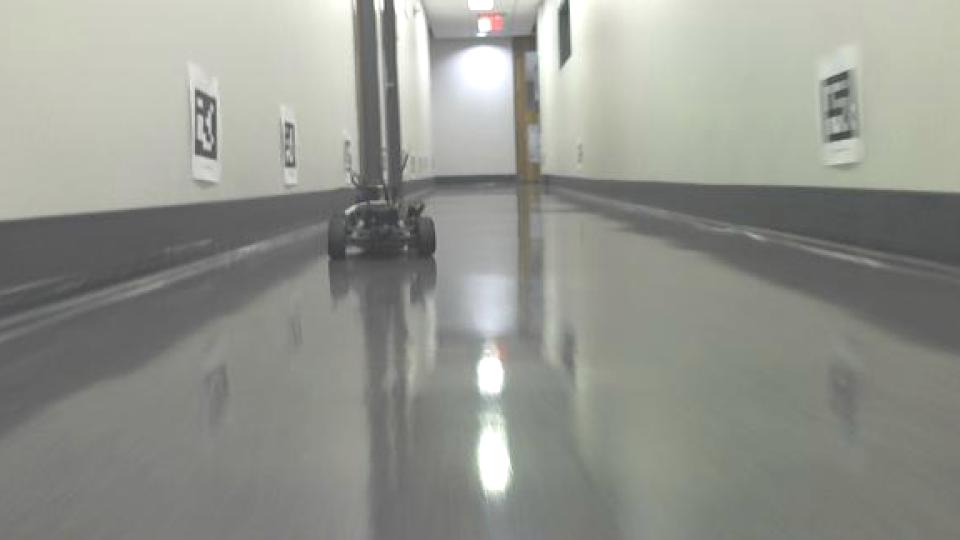car: (325, 0, 444, 263)
